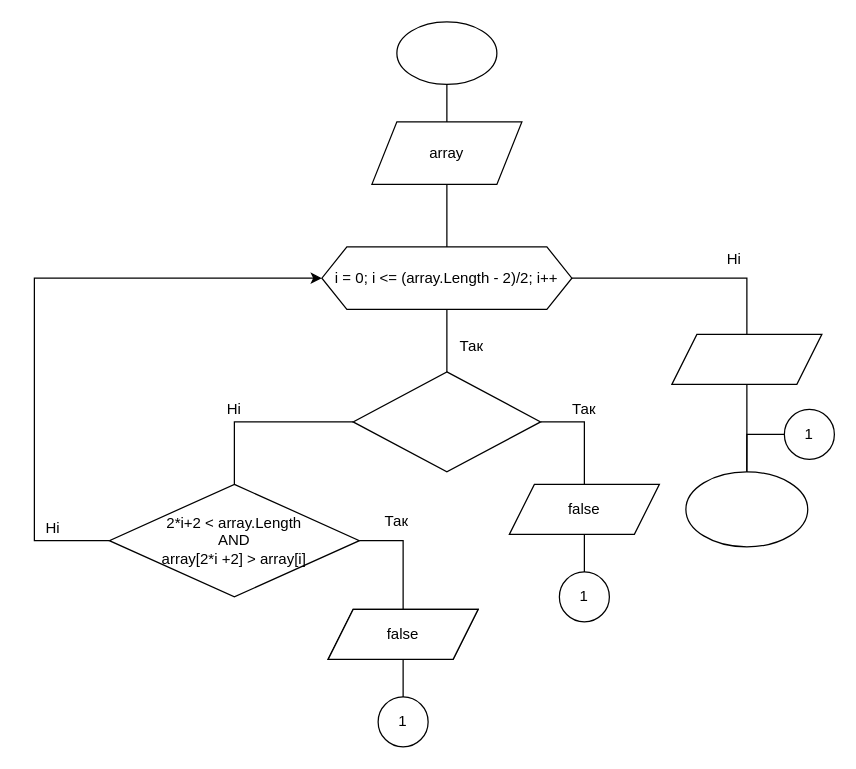
Image size: 856x769. Some labels were removed from this diagram. Here are the shapes that lost their labels. From the top down, the box of each, then its label:
(396, 21, 497, 84): початок IsHeap
(671, 333, 822, 384): true
(352, 371, 541, 472): array[2*i +1] > array[i]
(685, 471, 808, 547): кінець isHeap
